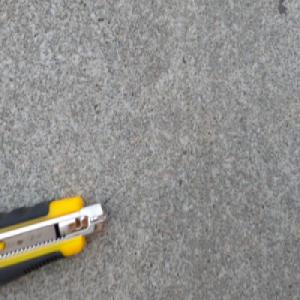Cutter: (0, 195, 107, 291)
